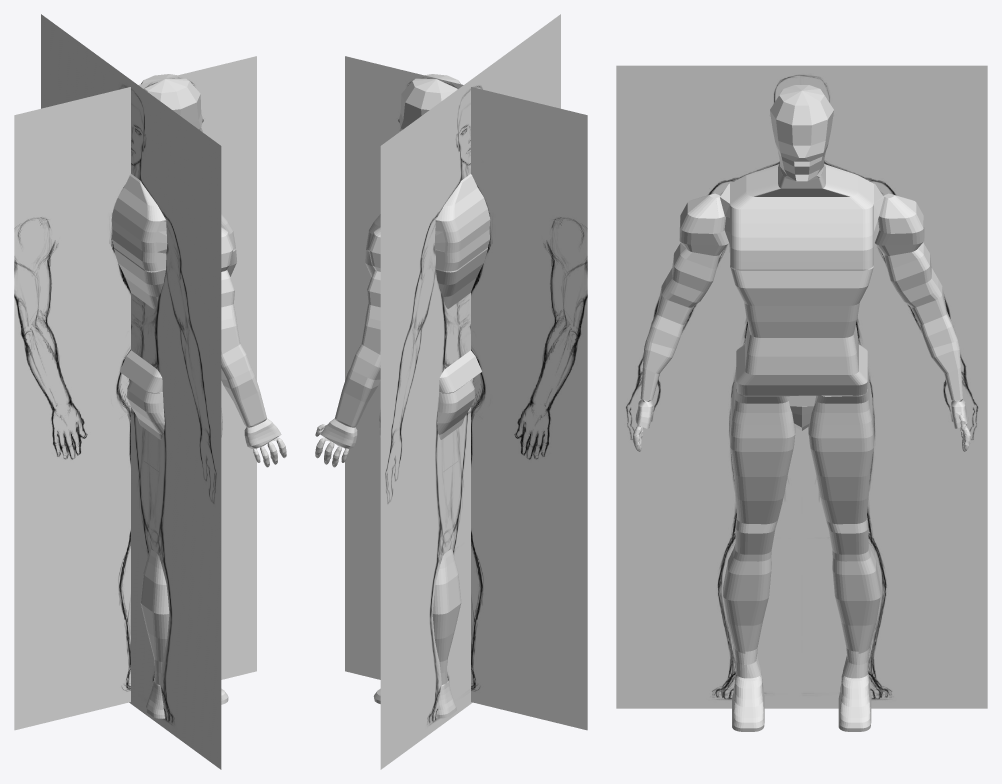
Rendered from FrankExperimentFixedOne.fbx.
The picture shows the model from 3 angles, left to right: view 1: azimuth 30°, elevation 25°; view 2: azimuth 150°, elevation 25°; view 3: azimuth 270°, elevation 25°; orthographic projection. The views are drawn at different scales.
Parts seen in each view (by area): view 1: reference-side, refrence-front, Frank; view 2: reference-side, refrence-front, Frank; view 3: refrence-front, Frank.
Boxes of the visible parts, x1=… form: reference-side: x1=14, y1=56, x2=256, y2=730; refrence-front: x1=41, y1=14, x2=221, y2=769; Frank: x1=111, y1=74, x2=286, y2=718; reference-side: x1=345, y1=56, x2=587, y2=730; refrence-front: x1=380, y1=14, x2=560, y2=769; Frank: x1=315, y1=74, x2=490, y2=718; refrence-front: x1=616, y1=65, x2=987, y2=708; Frank: x1=633, y1=85, x2=970, y2=731.
Size of the model in its own units: 71.7 by 176 by 92.2.
2 materials, 2 textured.
